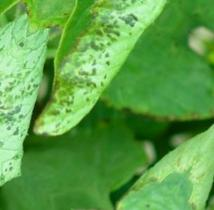Tomato leaf bacterial spot: (0, 0, 163, 162), (0, 18, 125, 193)
